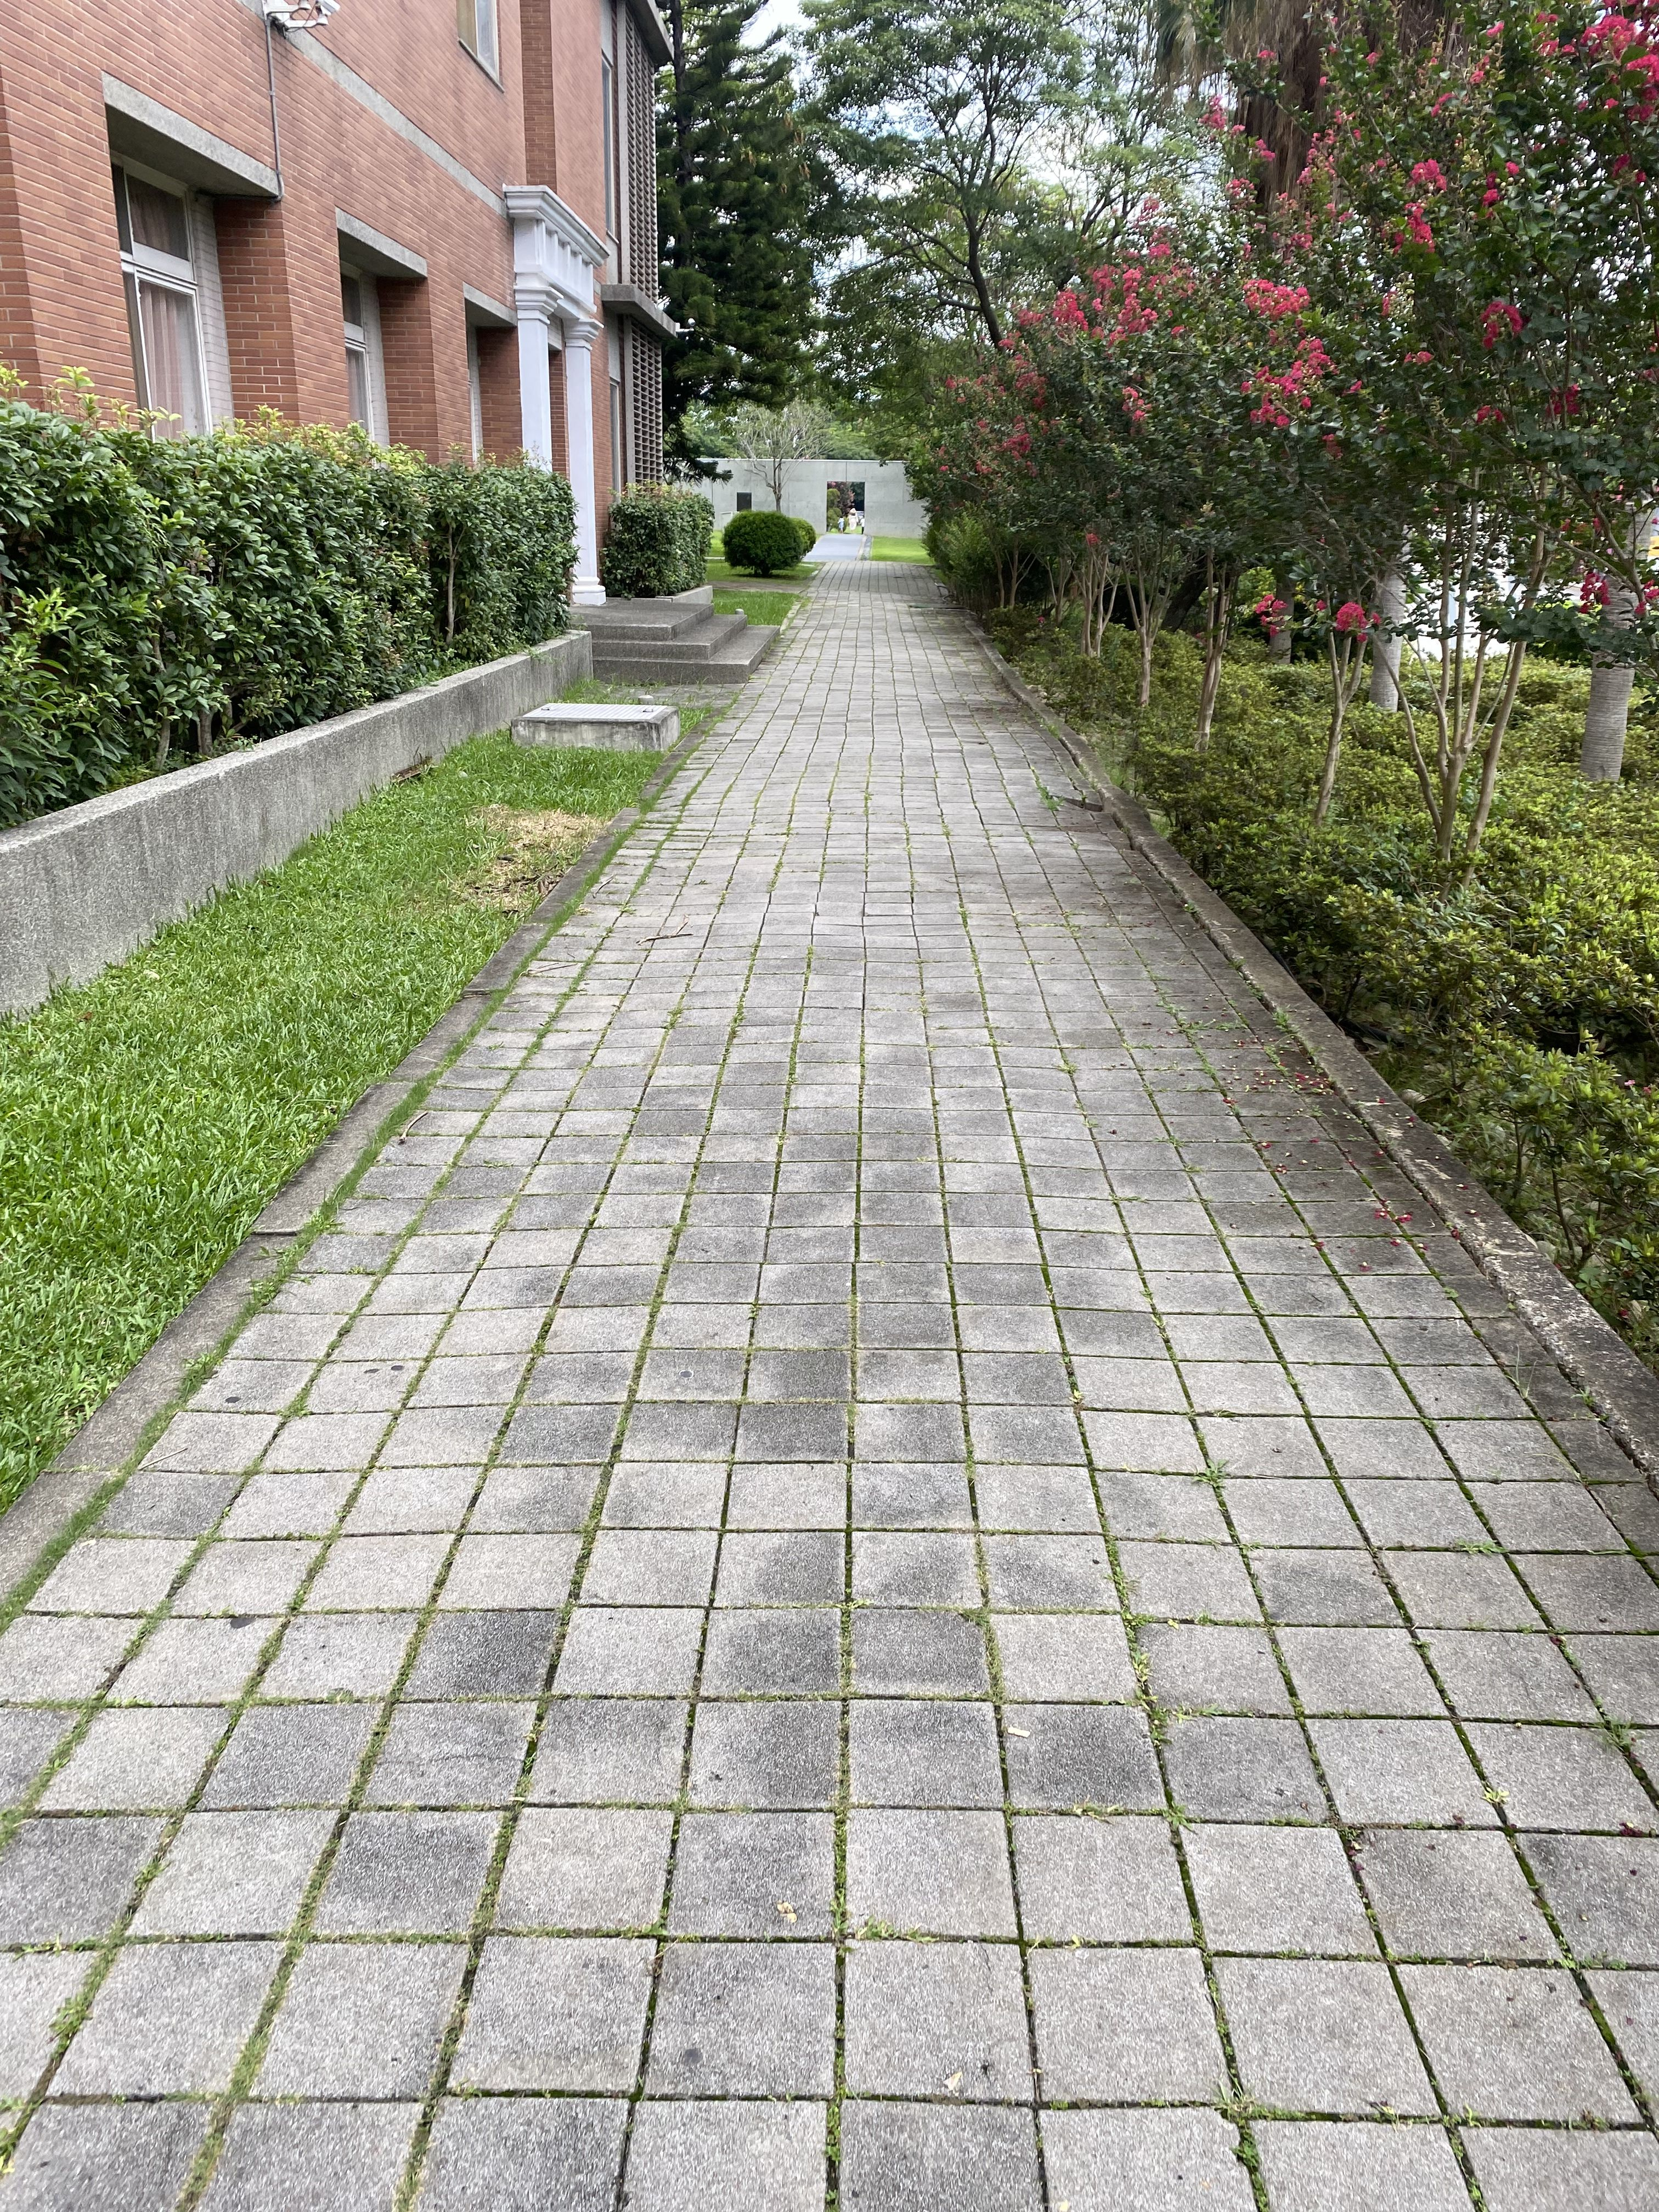0: (10, 777, 711, 2212)
sidewalk: (697, 524, 1656, 2212)
